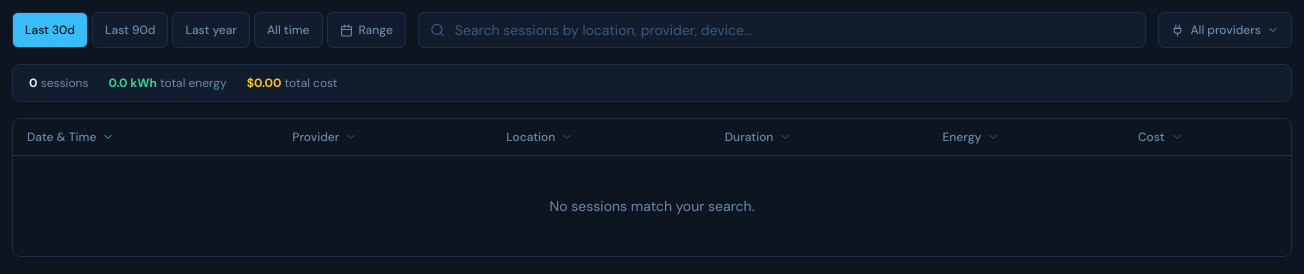
it: DataPage provider filter dropdown › disambiguates duplicate providers with the username suffix
This screenshot has width=1304, height=274.
Click the button with aria-label "filter by provider" at [1225, 30], box [1158, 12, 1292, 48]
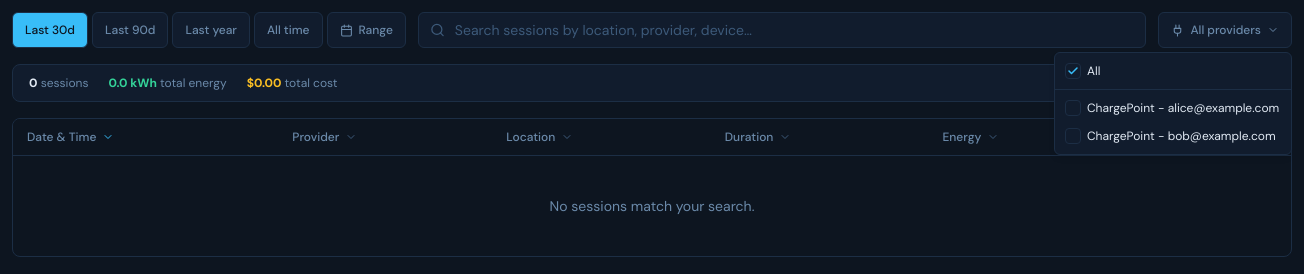
Check: the menu item "ChargePoint - alice@example.com" is shown, box [1065, 100, 1279, 116]
Check: the menu item "ChargePoint - bob@example.com" is shown, box [1065, 128, 1276, 144]
